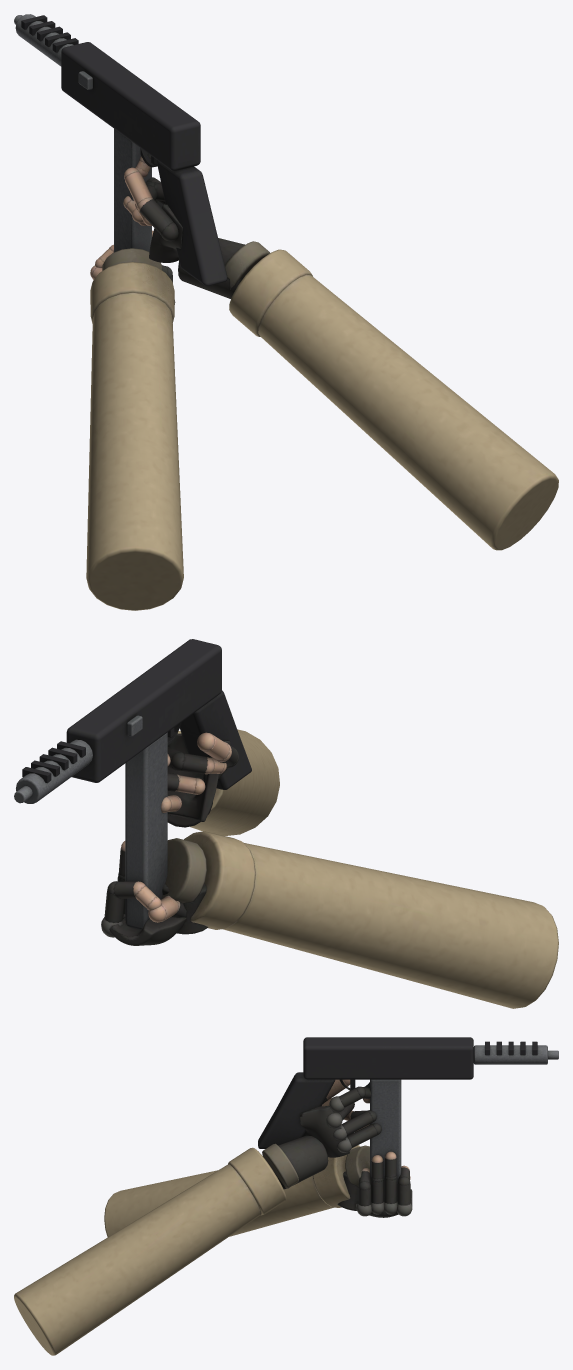
File: automat.glb
The picture shows the model from 3 angles, top to bottom: view 1: azimuth 30°, elevation 25°; view 2: azimuth 150°, elevation 25°; view 3: azimuth 270°, elevation 25°; orthographic projection. The views are drawn at different scales.
Visible parts, largest first — view 1: hænder, automat; view 2: hænder, automat; view 3: hænder, automat.
Part boxes in pixels (box(x1,y1,x2,y2)): hænder: box(86, 153, 558, 610); automat: box(14, 14, 227, 286); hænder: box(101, 729, 558, 1008); automat: box(14, 639, 251, 929); hænder: box(14, 1079, 412, 1355); automat: box(258, 1037, 558, 1201).
Size of the model in its own units: 0.4779 by 0.4138 by 0.7358.
Materials: 2 (2 with a texture image).
